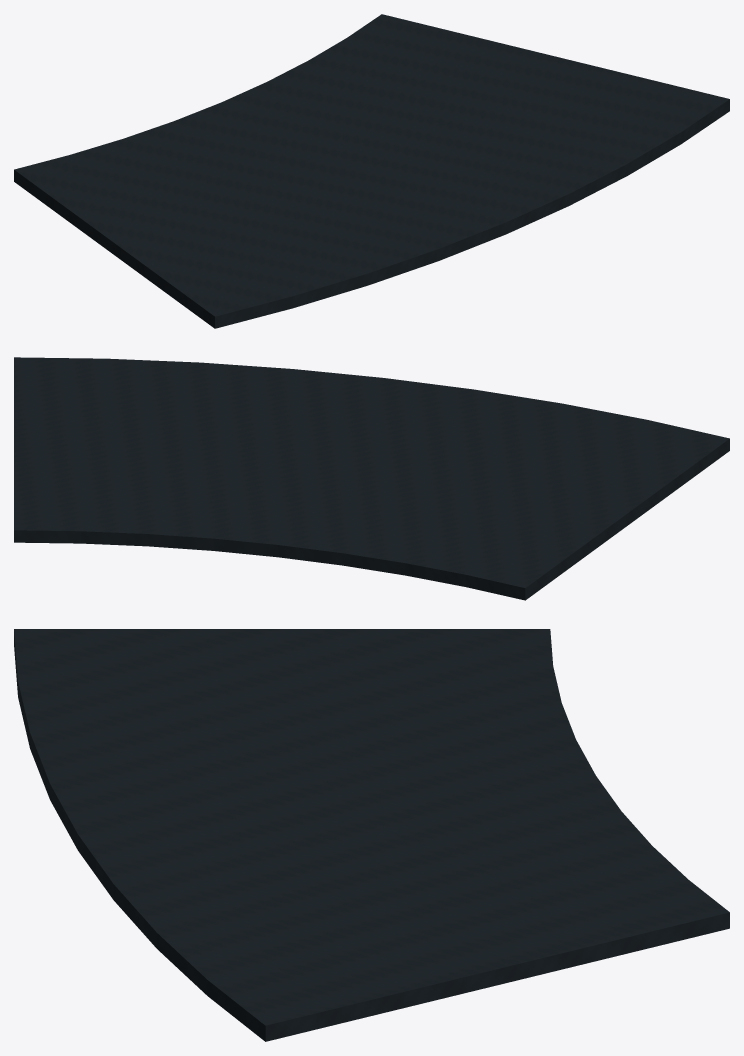
File: Transit_Road_2L_Curve30_R18_Surface.glb
3 views of the same model, one above another, from view 1: azimuth 30°, elevation 25°; view 2: azimuth 150°, elevation 25°; view 3: azimuth 270°, elevation 25° (orthographic). The views are drawn at different scales.
Parts seen in each view (by area): view 1: Transit_Road_2L_Curve30_R18_Surface; view 2: Transit_Road_2L_Curve30_R18_Surface; view 3: Transit_Road_2L_Curve30_R18_Surface.
Boxes of the visible parts, box(x1,y1,x2,y2) form: Transit_Road_2L_Curve30_R18_Surface: box(14, 14, 729, 328); Transit_Road_2L_Curve30_R18_Surface: box(14, 357, 729, 600); Transit_Road_2L_Curve30_R18_Surface: box(14, 629, 729, 1041).
Bounding box in the file's own units: 10.5 × 0.2 × 8.01.
1 material, 1 textured.
